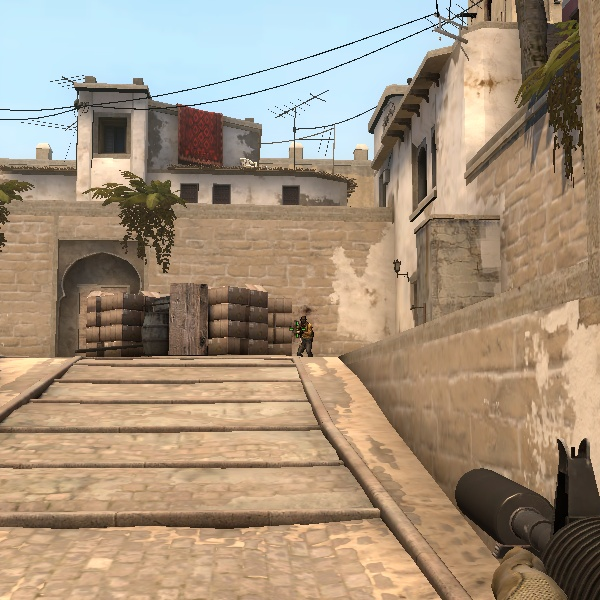t_body: (291, 312, 317, 358)
